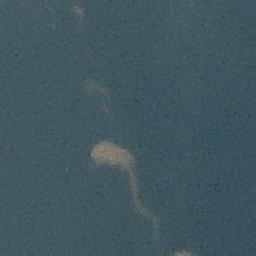debris: (89, 139, 136, 164), (79, 79, 107, 99), (70, 6, 83, 22), (122, 166, 134, 176), (129, 177, 137, 192), (133, 193, 140, 209), (142, 210, 154, 218)
